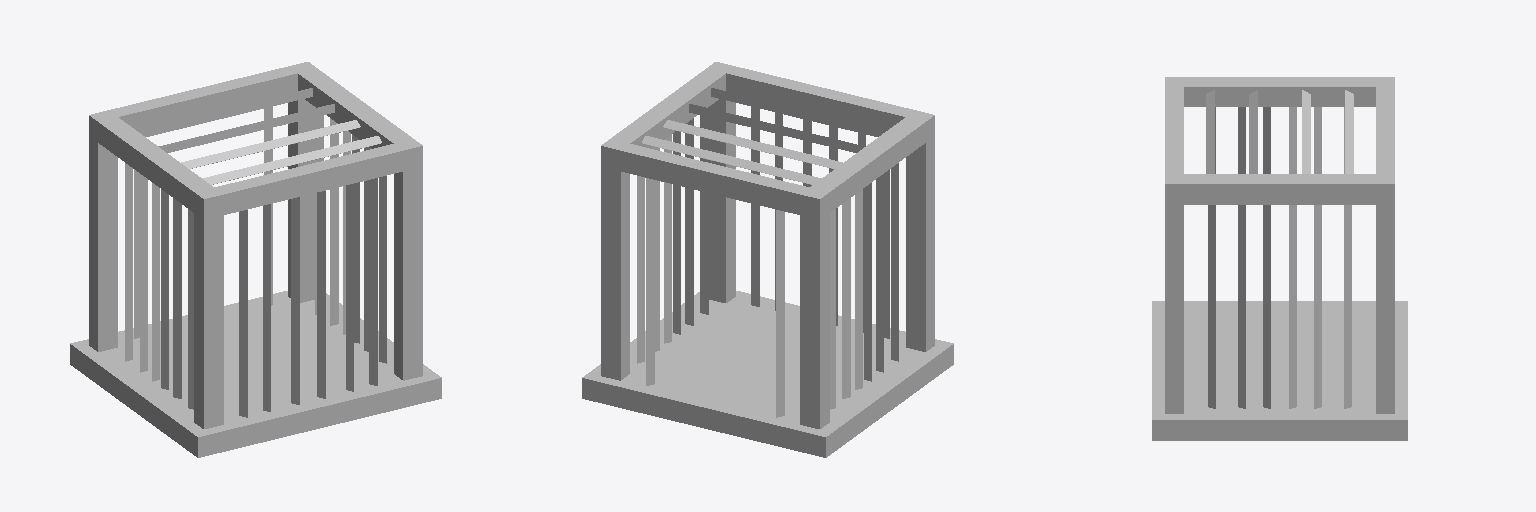
The model's file is cage.obj.
The picture shows the model from 3 angles: view 1: azimuth 30°, elevation 25°; view 2: azimuth 150°, elevation 25°; view 3: azimuth 270°, elevation 25°; orthographic projection.
Visible parts, largest first — view 1: Cage_Cylinder; view 2: Cage_Cylinder; view 3: Cage_Cylinder.
Part boxes in pixels (x1,y1,x2,y2): Cage_Cylinder: (70,62,441,457); Cage_Cylinder: (582,62,953,457); Cage_Cylinder: (1152,77,1407,440).
Size of the model in its own units: 2.45 by 2.41 by 2.22.